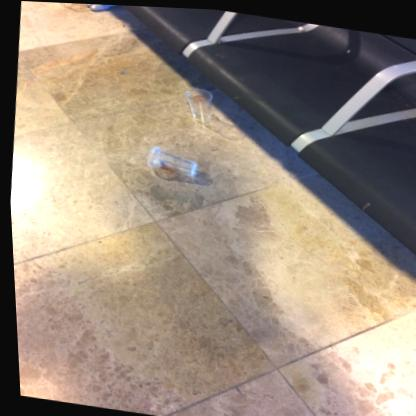Plastic: (145, 145, 196, 174), (184, 87, 211, 121)
